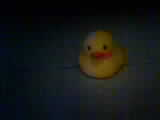duck: (79, 26, 131, 85)
